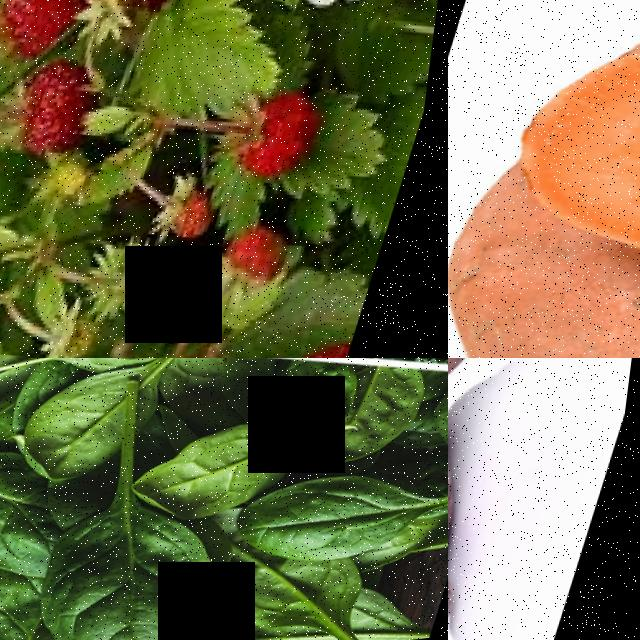spinach: (31, 497, 265, 640), (231, 457, 448, 599), (132, 411, 317, 548), (19, 361, 148, 498), (226, 553, 383, 640), (0, 453, 75, 588)
strawberry: (227, 91, 341, 199), (6, 58, 105, 168), (0, 0, 97, 50)
sweet potato: (482, 0, 640, 333), (448, 193, 640, 358), (448, 358, 576, 541), (448, 422, 518, 640)
